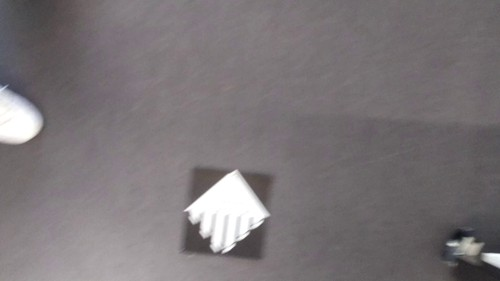misgoods: (183, 169, 274, 255)
